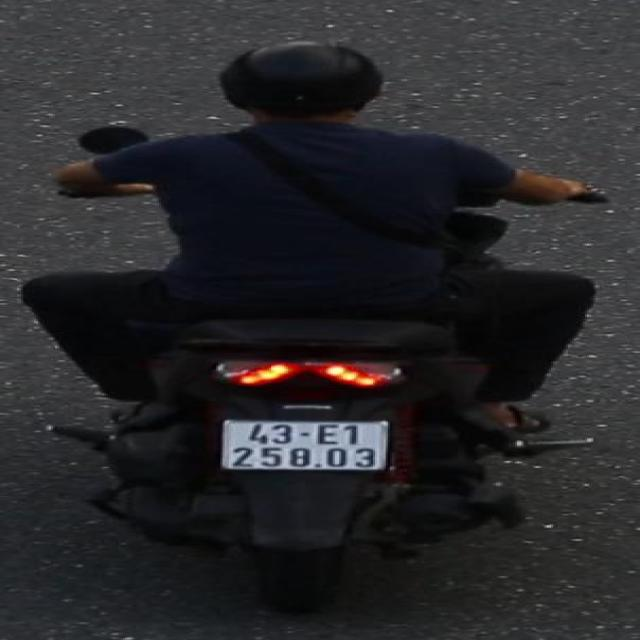LP: (216, 413, 401, 475)
helmet: (212, 37, 392, 131)
